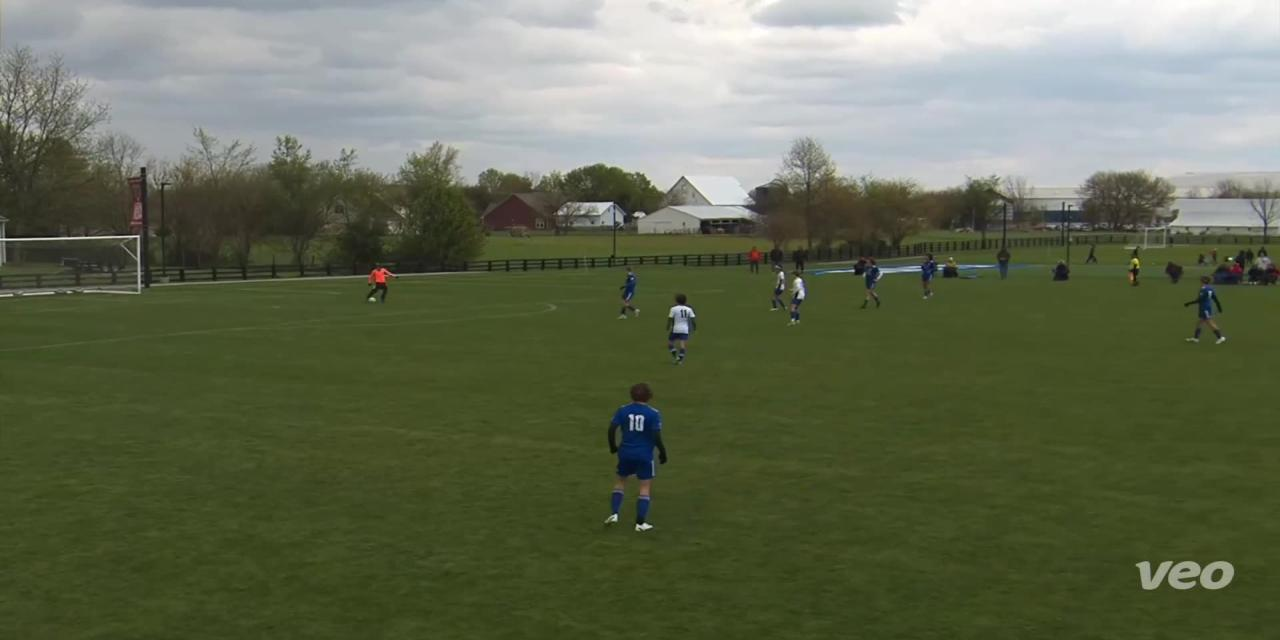goal: (0, 229, 154, 304)
sports ball: (364, 292, 381, 310)
